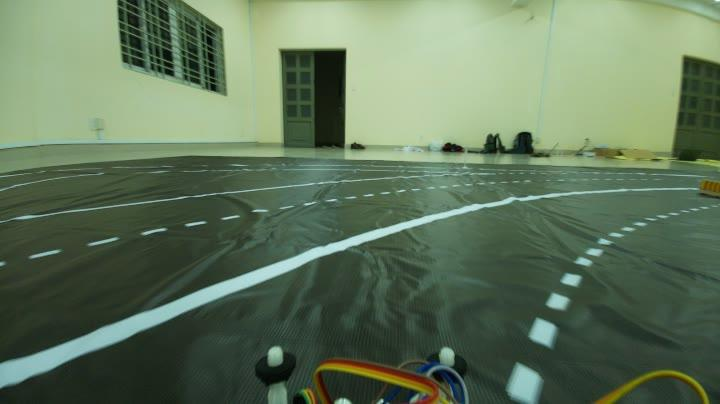roadblock: (695, 174, 720, 200)
